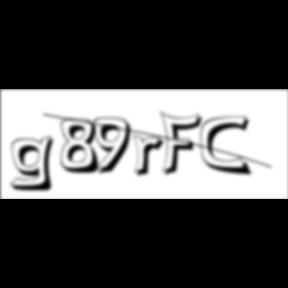8: (62, 117, 106, 176)
9: (94, 117, 138, 177)
C: (200, 115, 255, 178)
F: (160, 110, 208, 178)
g: (10, 134, 62, 194)
r: (133, 134, 171, 180)
